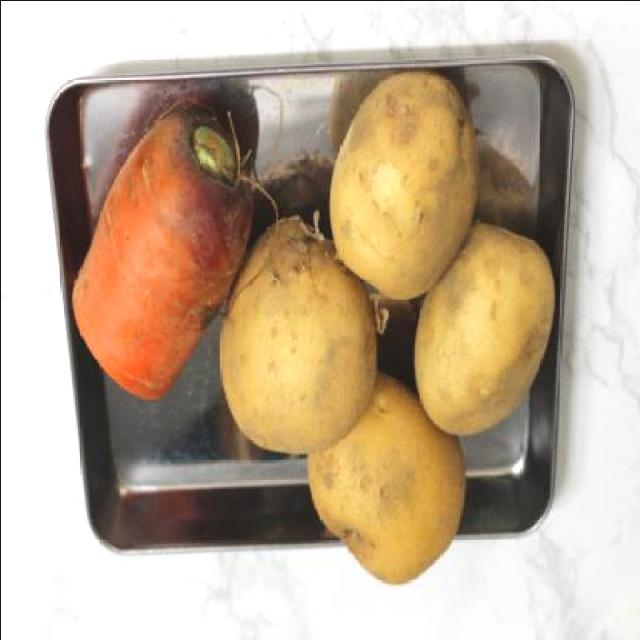carrot: (68, 96, 250, 405)
potato: (220, 216, 382, 458), (324, 63, 480, 311), (302, 363, 465, 589), (412, 224, 555, 440)
